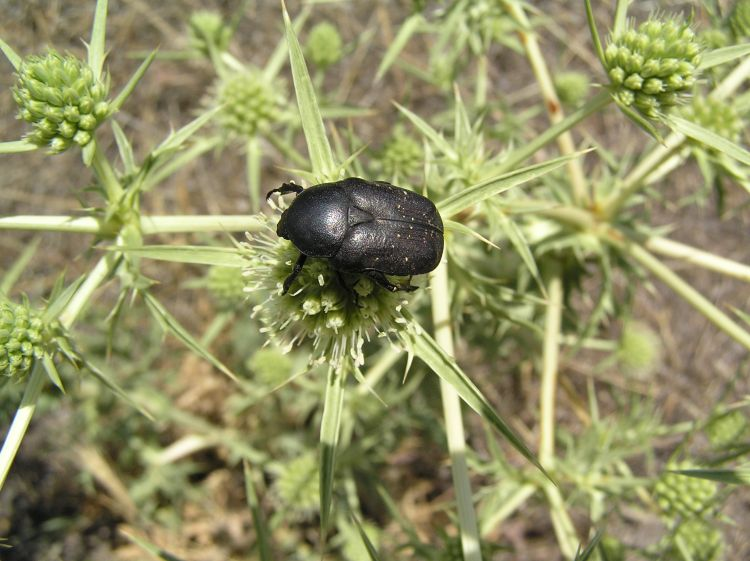Protaetia_vidua: (265, 161, 453, 303)
